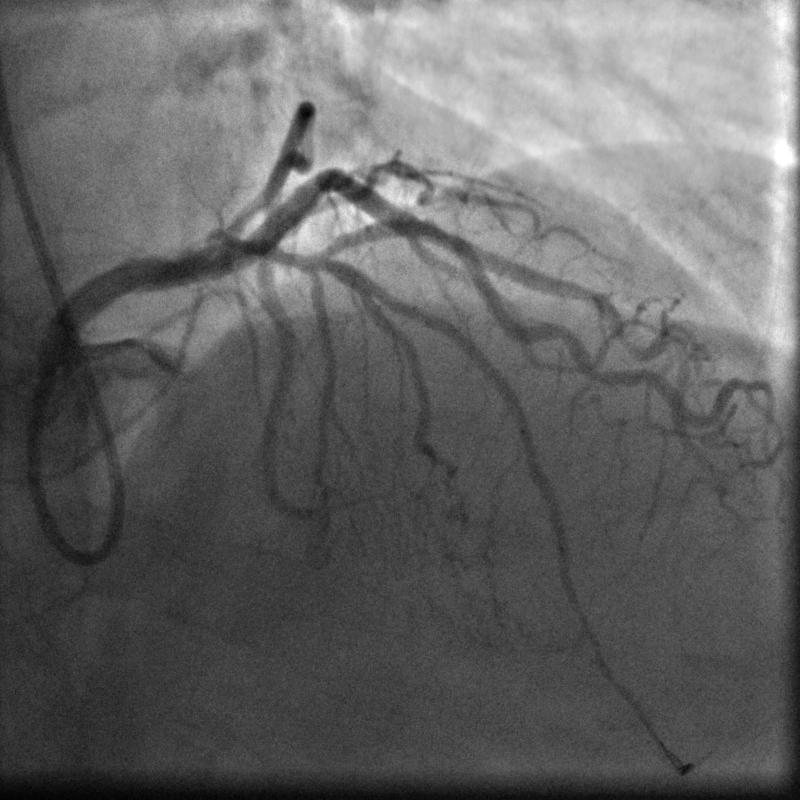Stenosis: (416, 213, 465, 259)
